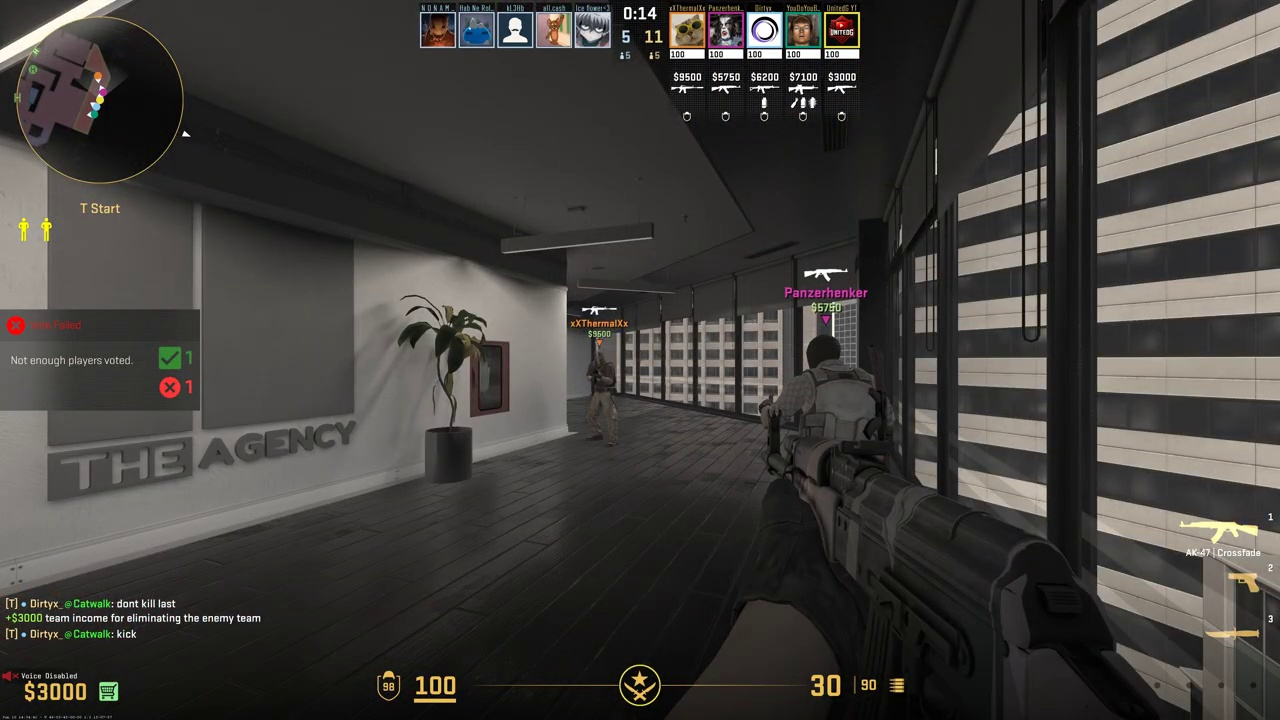Terrorist: (768, 336, 895, 485), (588, 350, 617, 448)
